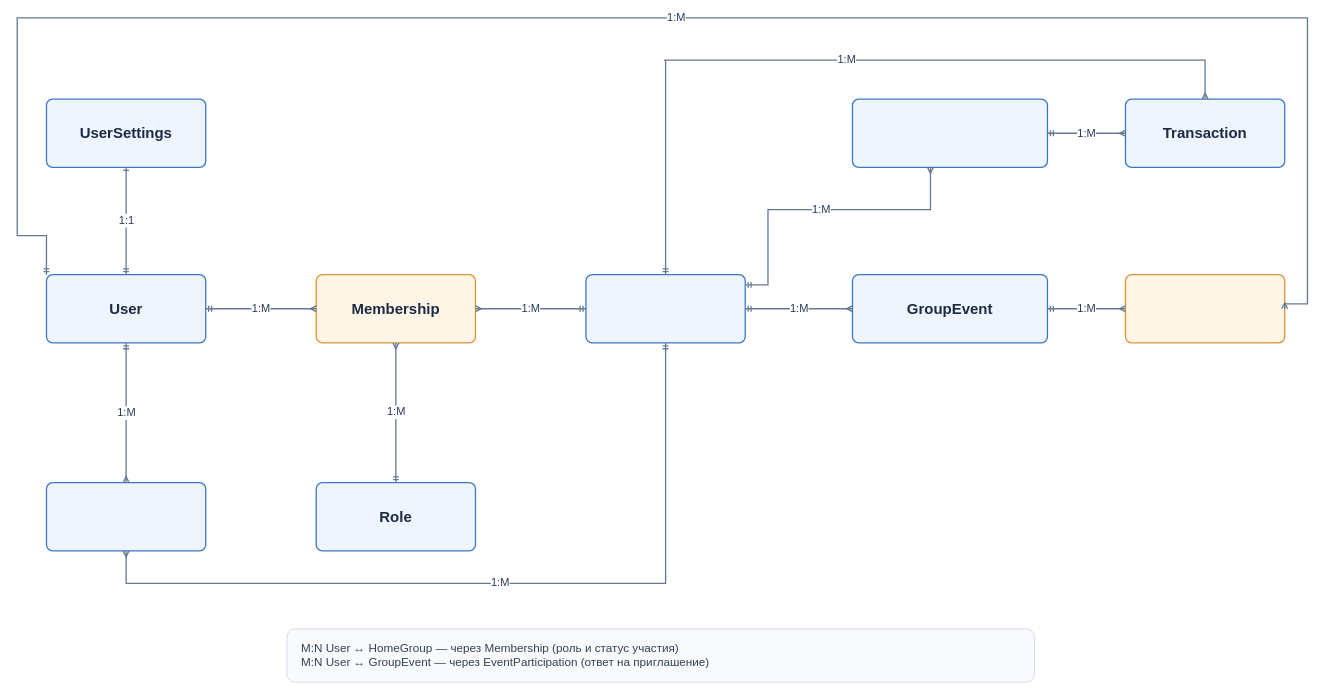
The diagram is 1325 pixels wide and 694 high, and some of its shapes have lost their labels. The centre of each missing label's shape, as x and y in pixels:
"AuditLog" goes at (x=126, y=516).
"EventParticipation" goes at (x=1204, y=308).
"HomeGroup" goes at (x=665, y=308).
"TransactionCategory" goes at (x=950, y=133).
